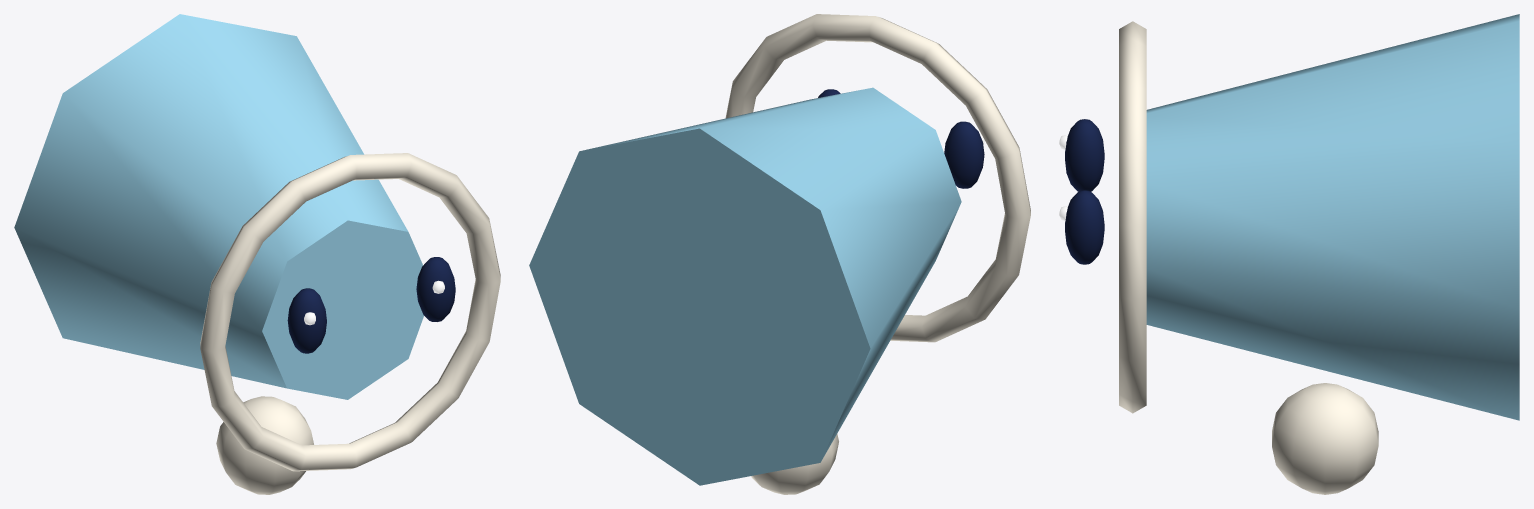
The model's file is glass.glb.
The picture shows the model from 3 angles, left to right: view 1: azimuth 30°, elevation 25°; view 2: azimuth 150°, elevation 25°; view 3: azimuth 270°, elevation 25°; orthographic projection. The views are drawn at different scales.
Visible parts, largest first — view 1: Body, Eyes; view 2: Body, Eyes; view 3: Body, Eyes.
Boxes of the visible parts, left/top/right/bottom form: Body: left=14, top=14, right=500, bottom=494; Eyes: left=287, top=257, right=455, bottom=353; Body: left=529, top=14, right=1030, bottom=494; Eyes: left=818, top=89, right=984, bottom=188; Body: left=1119, top=14, right=1519, bottom=494; Eyes: left=1059, top=119, right=1104, bottom=264.
Bounding box in the file's own units: 0.108 × 0.129 × 0.1148.
